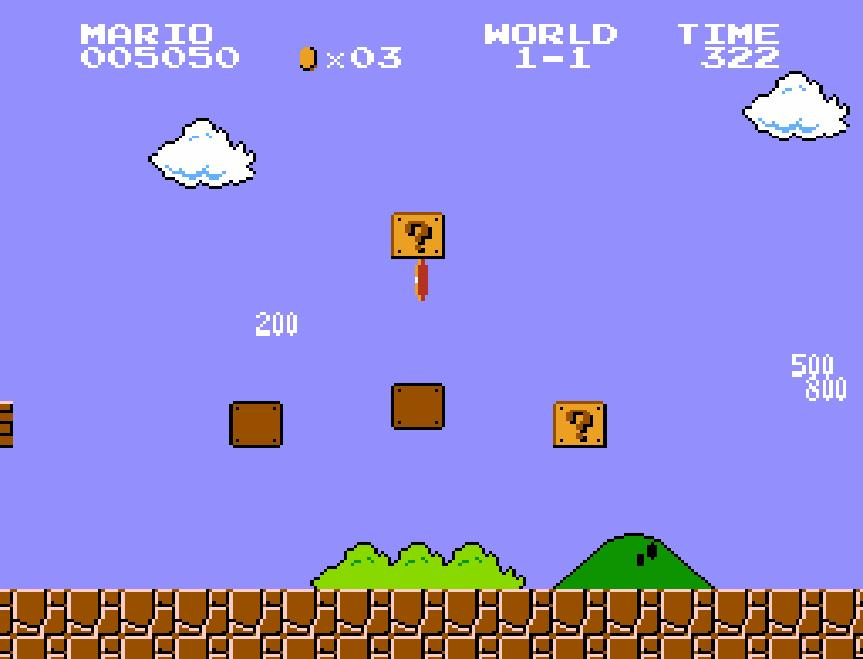little_mario: (379, 482, 437, 532)
